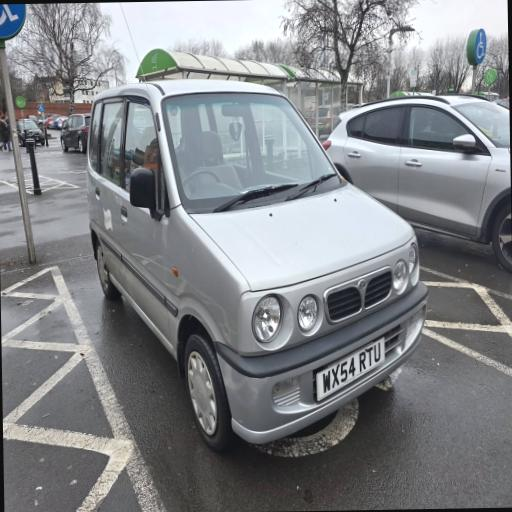numberplates: (317, 338, 385, 400)
